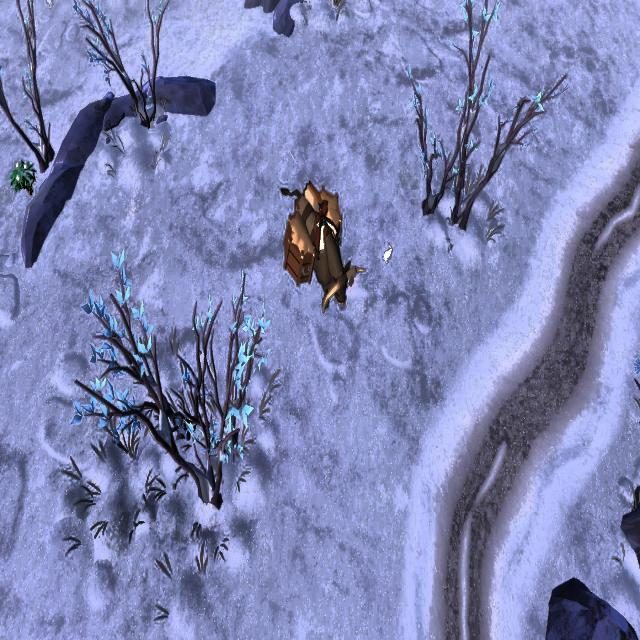fiber_t3: (6, 153, 38, 194)
